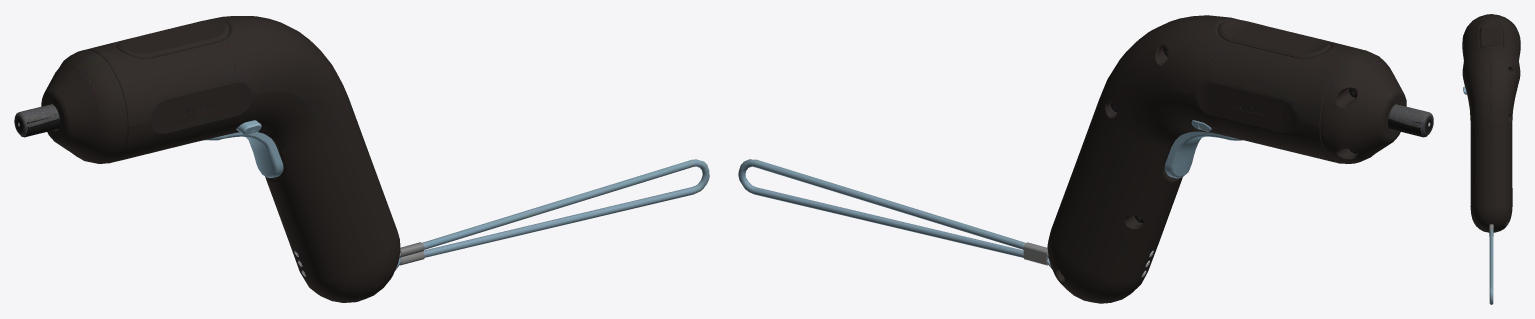
File: 00_trixig_parts.glb
3 views of the same model, side by side, from view 1: azimuth 30°, elevation 25°; view 2: azimuth 150°, elevation 25°; view 3: azimuth 270°, elevation 25° (orthographic). The views are drawn at different scales.
Parts seen in each view (by area): view 1: Body_Back, Clip, Top_Panel, Body_Front, Button, motor; view 2: Body_Front, Clip, Top_Panel, Body_Back, Button, motor; view 3: Body_Front, Body_Back, Top_Panel, Clip.
Boxes of the visible parts, x1=… form: Body_Back: x1=52, y1=19, x2=400, y2=302; Clip: x1=395, y1=159, x2=709, y2=270; Top_Panel: x1=116, y1=20, x2=229, y2=58; Body_Front: x1=41, y1=16, x2=316, y2=293; Button: x1=204, y1=132, x2=283, y2=178; motor: x1=14, y1=104, x2=59, y2=136; Body_Front: x1=1047, y1=19, x2=1395, y2=303; Clip: x1=738, y1=159, x2=1052, y2=269; Top_Panel: x1=1218, y1=20, x2=1331, y2=58; Body_Back: x1=1136, y1=15, x2=1406, y2=288; Button: x1=1164, y1=131, x2=1242, y2=178; motor: x1=1388, y1=104, x2=1433, y2=136; Body_Front: x1=1491, y1=14, x2=1520, y2=232; Body_Back: x1=1462, y1=14, x2=1491, y2=232; Top_Panel: x1=1479, y1=22, x2=1503, y2=48; Clip: x1=1489, y1=224, x2=1493, y2=304.
Size of the model in its own units: 0.3151 by 0.1336 by 0.0461.
4 materials, 4 textured.
